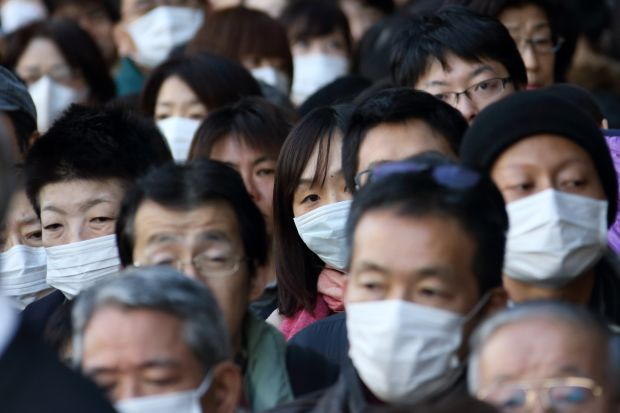mask: (347, 299, 462, 402), (504, 189, 610, 287), (294, 198, 351, 271), (46, 239, 123, 288)
